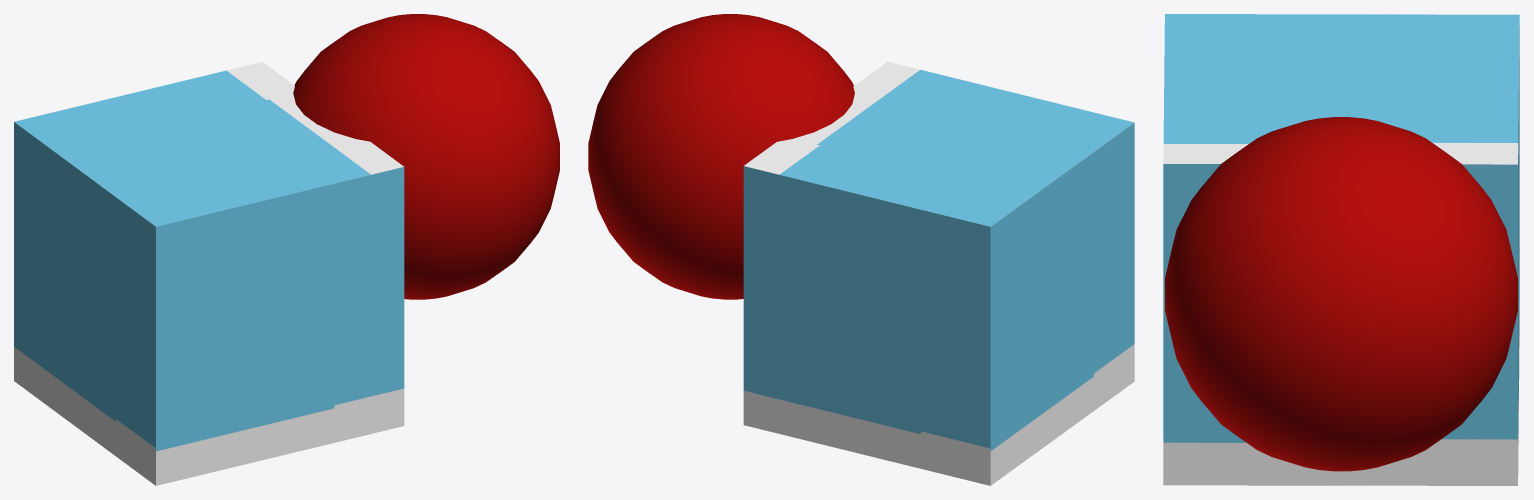
3 views of the same model, side by side, from view 1: azimuth 30°, elevation 25°; view 2: azimuth 150°, elevation 25°; view 3: azimuth 270°, elevation 25° (orthographic). The views are drawn at different scales.
Parts seen in each view (by area): view 1: Box, Ball; view 2: Box, Ball; view 3: Ball, Box.
Boxes of the visible parts, left/top/right/bottom form: Box: left=14, top=62, right=404, bottom=485; Ball: left=293, top=14, right=559, bottom=299; Box: left=743, top=61, right=1134, bottom=485; Ball: left=588, top=14, right=854, bottom=299; Ball: left=1165, top=117, right=1517, bottom=471; Box: left=1163, top=14, right=1519, bottom=485.
Size of the model in its own units: 184 by 126 by 100.
